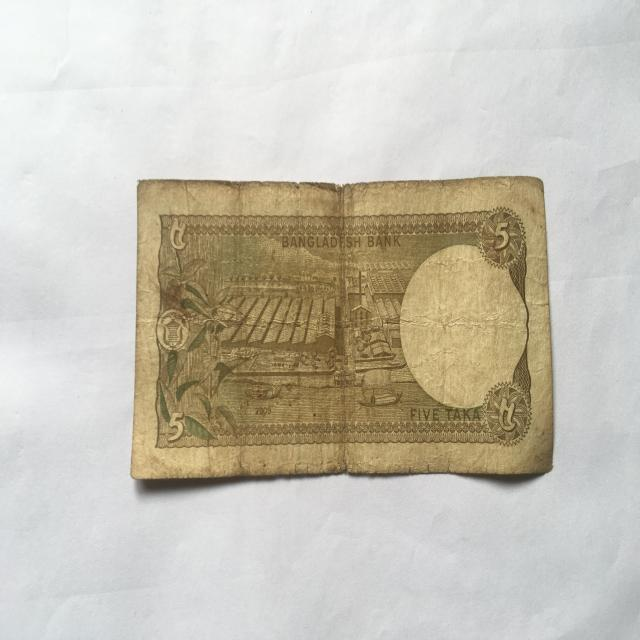Taka: (128, 169, 547, 484)
